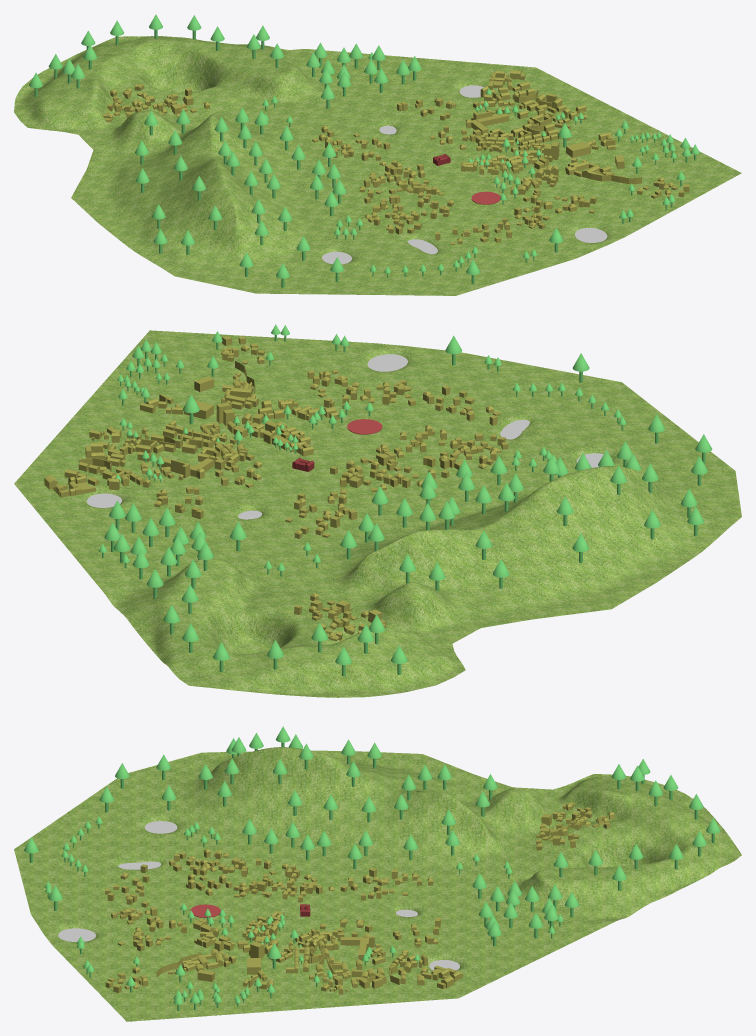
File: SimpleScene.fbx
The picture shows the model from 3 angles, top to bottom: view 1: azimuth 30°, elevation 25°; view 2: azimuth 150°, elevation 25°; view 3: azimuth 270°, elevation 25°; orthographic projection. The views are drawn at different scales.
Parts seen in each view (by area): view 1: SimpleTerria:Group27107, SimpleTerria:SimpleTerria:townMain, SimpleTerria:town2Main, SimpleTerria:town1Main, SimpleTerria:town3Main; view 2: SimpleTerria:Group27107, SimpleTerria:SimpleTerria:townMain, SimpleTerria:town2Main, SimpleTerria:town1Main, SimpleTerria:town3Main, SimpleTerria:town8Main; view 3: SimpleTerria:Group27107, SimpleTerria:SimpleTerria:townMain, SimpleTerria:town1Main, SimpleTerria:town2Main, SimpleTerria:town3Main, SimpleTerria:town8Main, SimpleTerria:town15Main.
Part boxes in pixels (bbox=[...]): SimpleTerria:Group27107: bbox=[14, 36, 741, 295]; SimpleTerria:SimpleTerria:townMain: bbox=[102, 83, 209, 122]; SimpleTerria:town2Main: bbox=[364, 195, 421, 234]; SimpleTerria:town1Main: bbox=[379, 160, 444, 198]; SimpleTerria:town3Main: bbox=[435, 222, 512, 244]; SimpleTerria:Group27107: bbox=[14, 330, 741, 697]; SimpleTerria:SimpleTerria:townMain: bbox=[294, 596, 386, 641]; SimpleTerria:town2Main: bbox=[423, 432, 508, 478]; SimpleTerria:town1Main: bbox=[330, 447, 403, 494]; SimpleTerria:town3Main: bbox=[423, 385, 500, 425]; SimpleTerria:town8Main: bbox=[294, 491, 357, 520]; SimpleTerria:Group27107: bbox=[14, 747, 741, 1021]; SimpleTerria:SimpleTerria:townMain: bbox=[536, 802, 614, 850]; SimpleTerria:town1Main: bbox=[233, 877, 334, 902]; SimpleTerria:town2Main: bbox=[169, 851, 261, 876]; SimpleTerria:town3Main: bbox=[105, 864, 149, 904]; SimpleTerria:town8Main: bbox=[340, 867, 390, 900]; SimpleTerria:town15Main: bbox=[186, 866, 232, 895].
Size of the model in its own units: 1031 by 153 by 1169.
